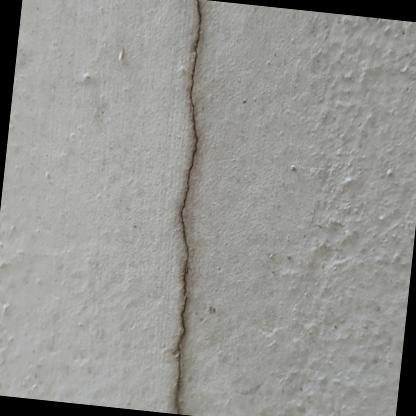crack: (175, 0, 200, 414)
